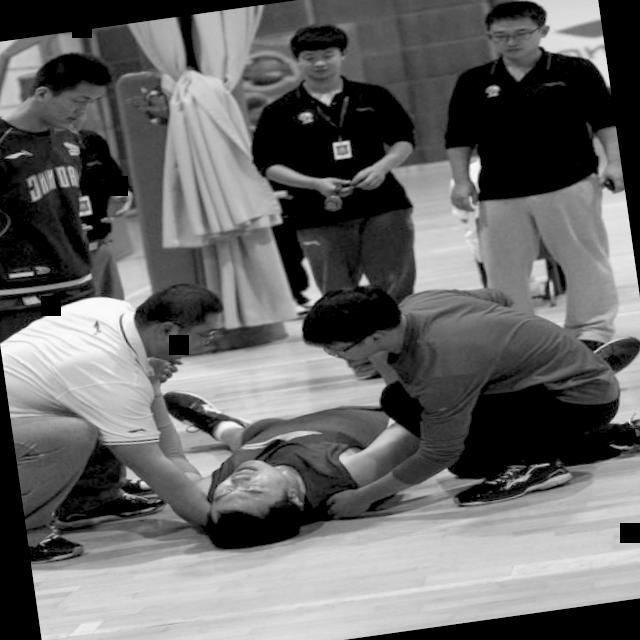Fall-Detected: (148, 357, 428, 562)
